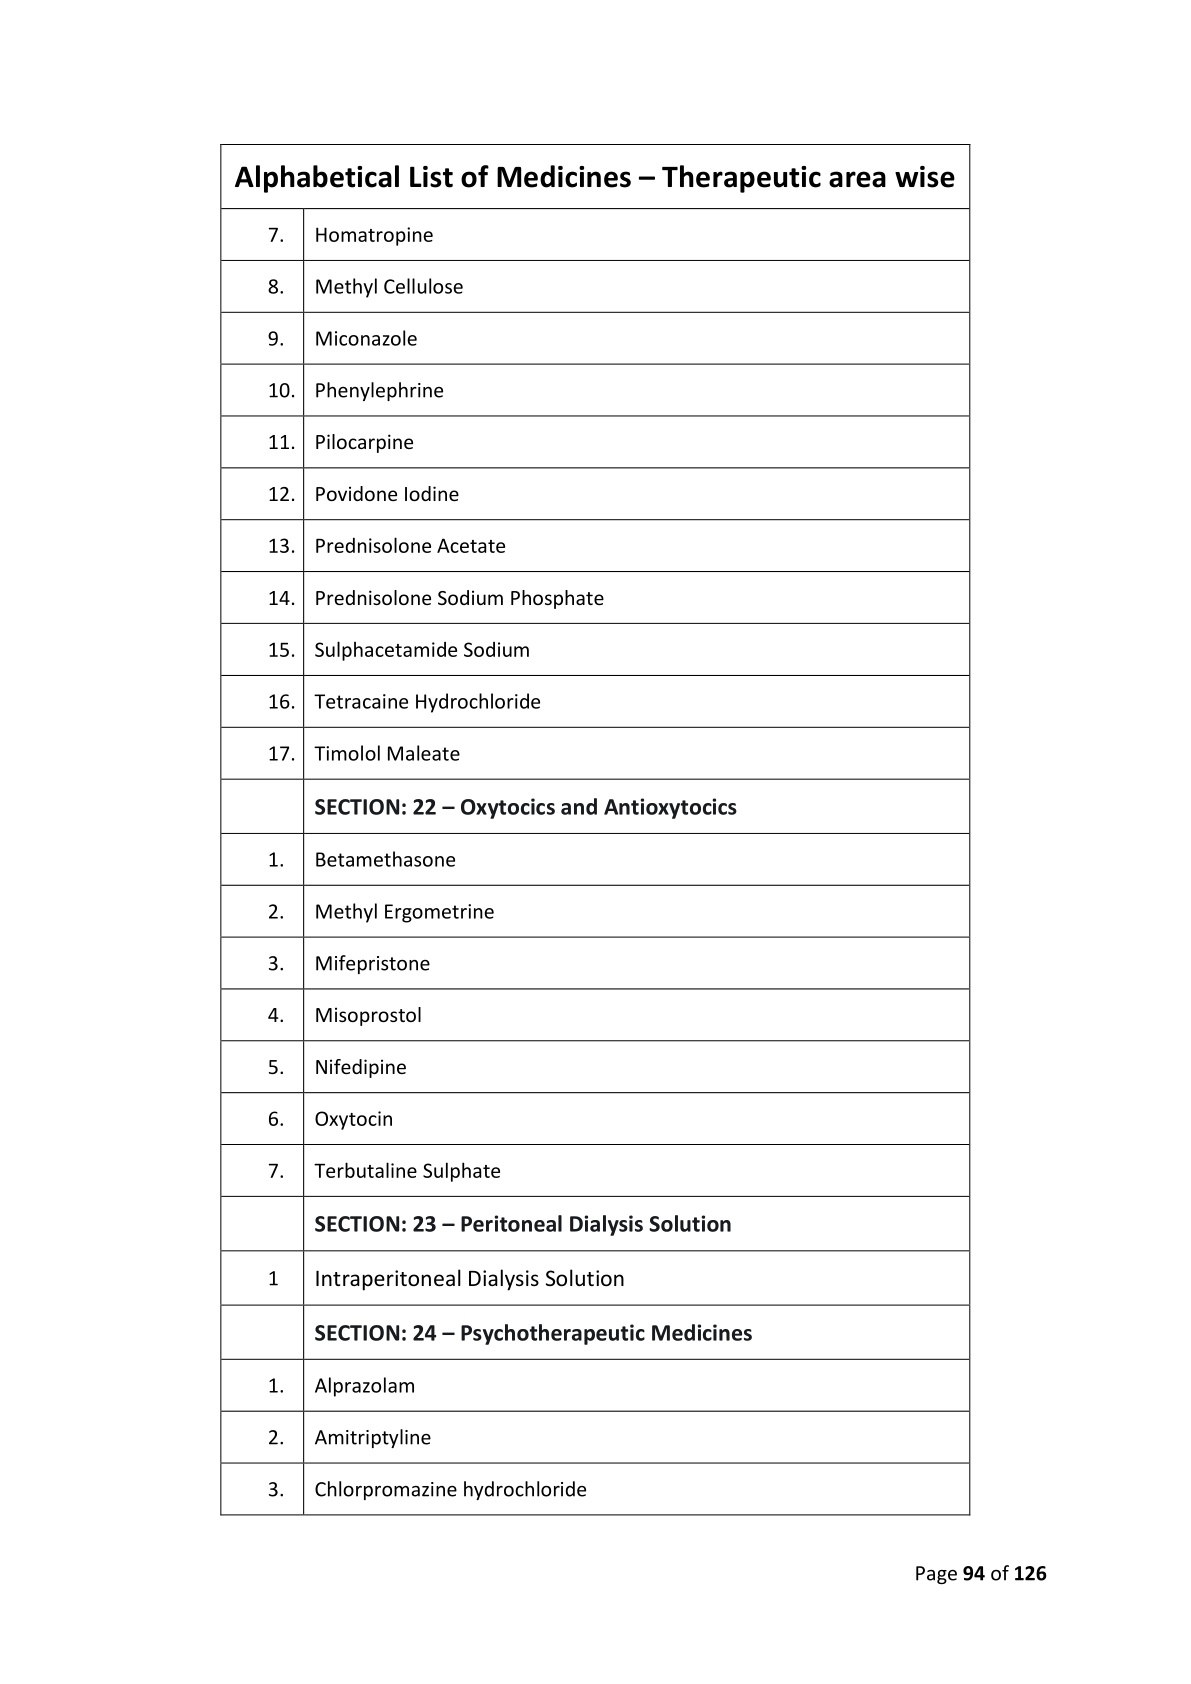merged_cells: (219, 142, 971, 1517)
